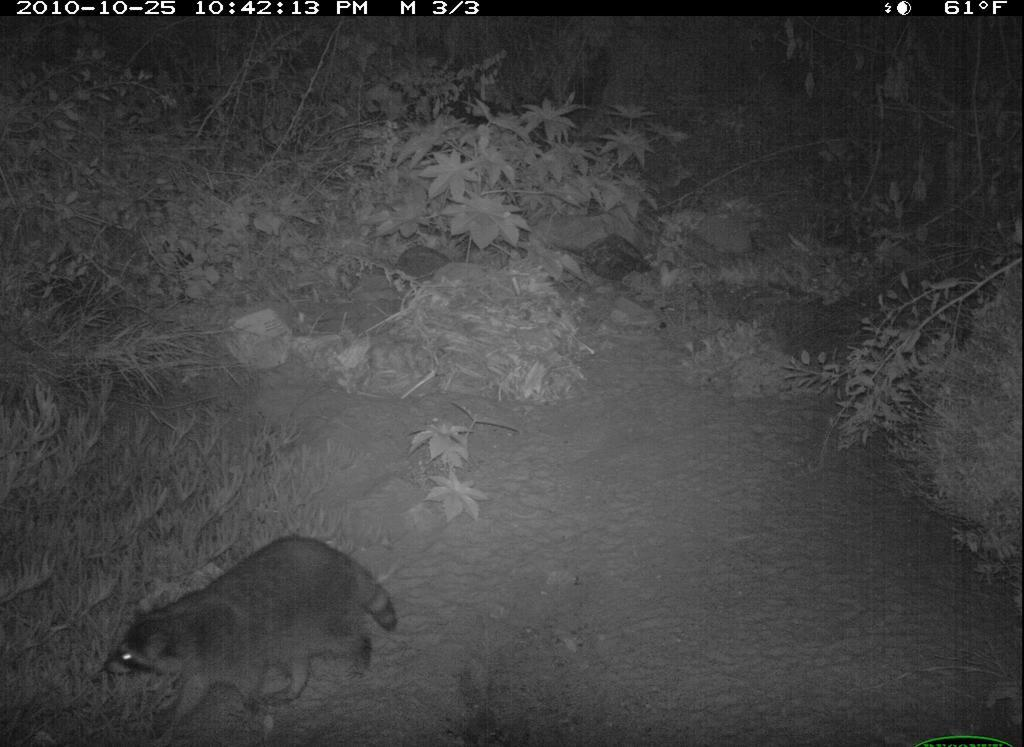raccoon: (95, 511, 413, 734)
